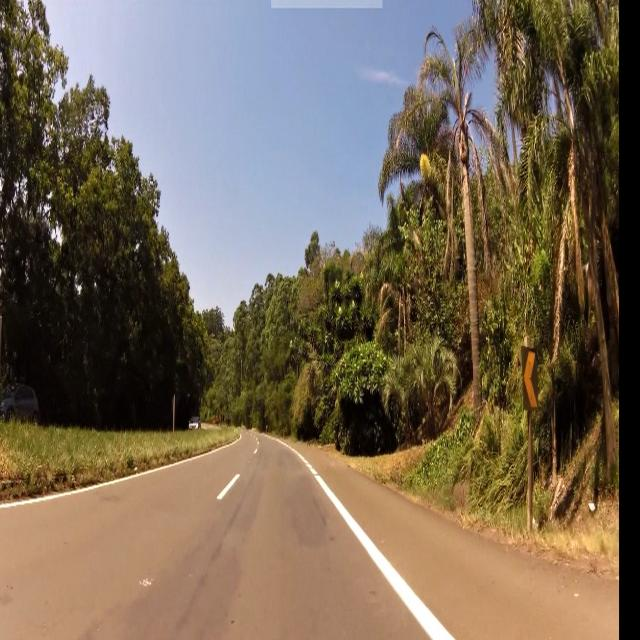Del: (524, 350, 536, 418)
